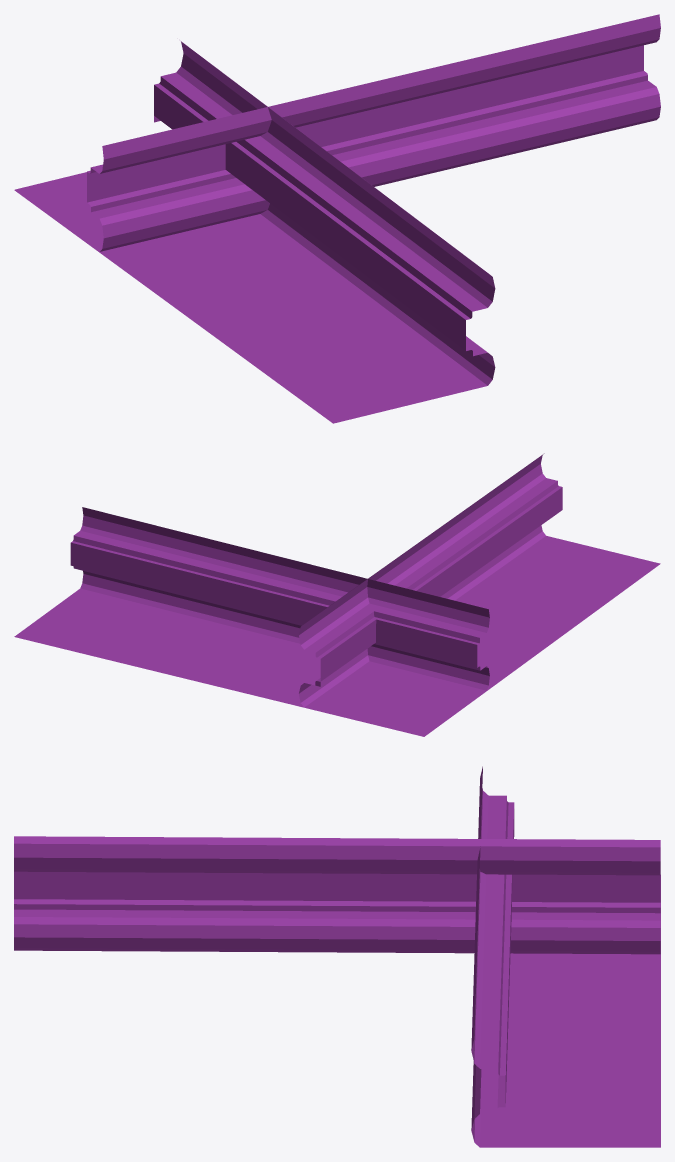
The model's file is cornertrim.fbx.
3 renders of one model, top to bottom at view 1: azimuth 30°, elevation 25°; view 2: azimuth 150°, elevation 25°; view 3: azimuth 270°, elevation 25°, orthographic. The views are drawn at different scales.
Visible parts, largest first — view 1: polySurface700; view 2: polySurface700; view 3: polySurface700.
Boxes of the visible parts, x1,y1,x2,y2 form: polySurface700: [14, 14, 660, 423]; polySurface700: [14, 453, 660, 736]; polySurface700: [14, 766, 660, 1147].
Bounding box in the file's own units: 1.6 × 0.3128 × 1.6.
